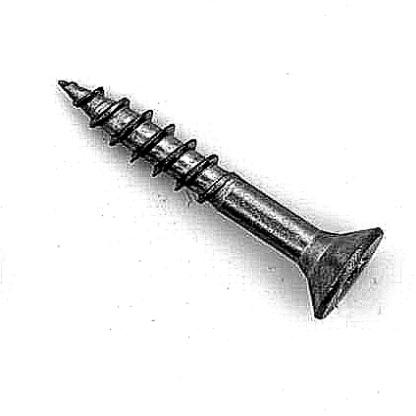metal: (56, 78, 384, 319)
